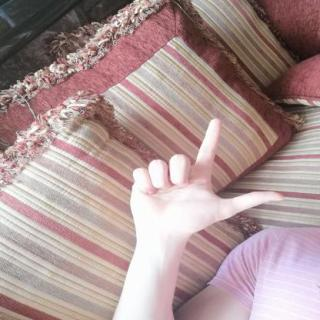LAAM: (118, 111, 294, 246)
